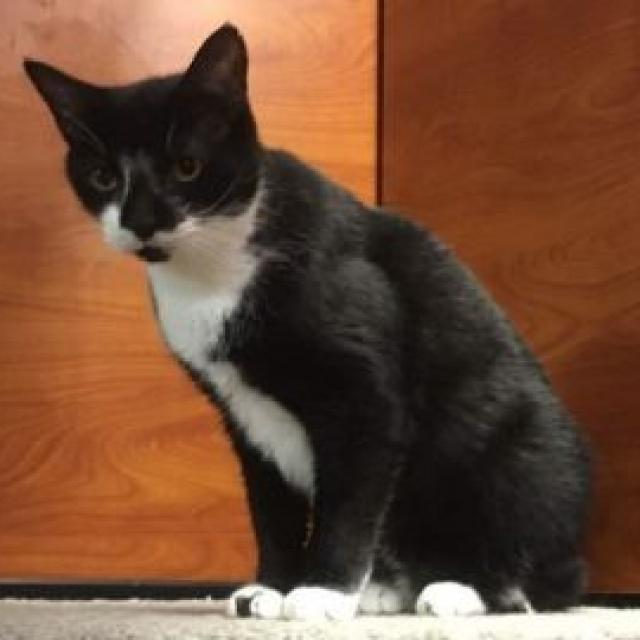Tuxedo: (21, 18, 597, 620)
